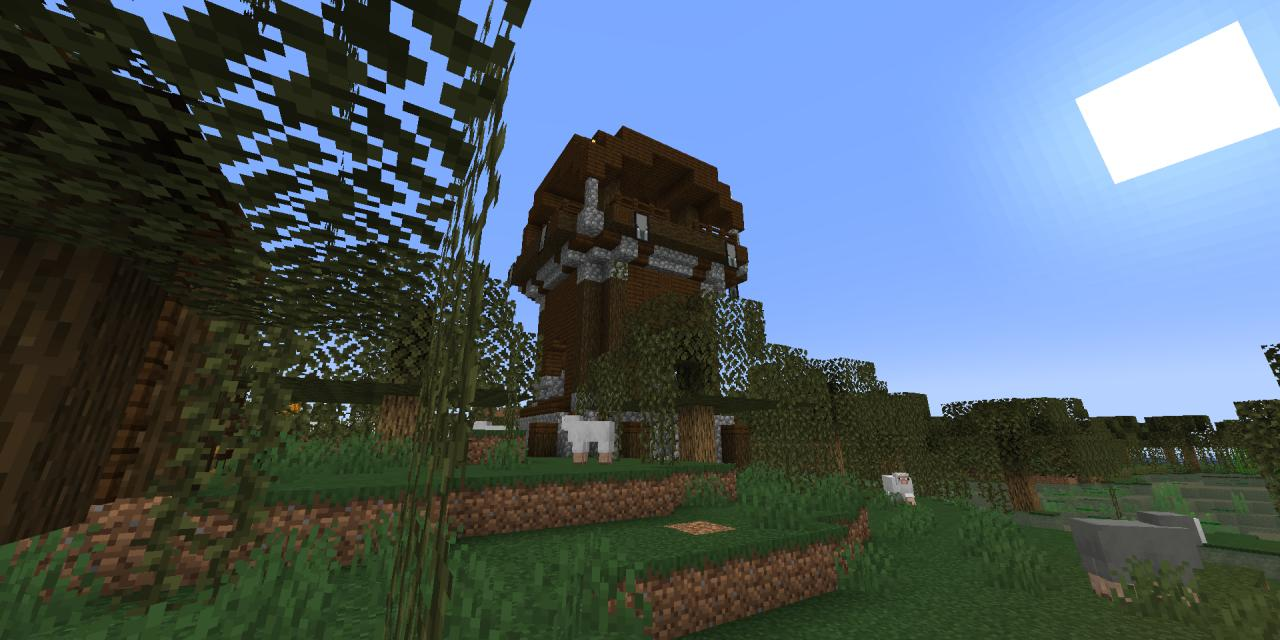pillager outpost: (505, 117, 758, 474)
